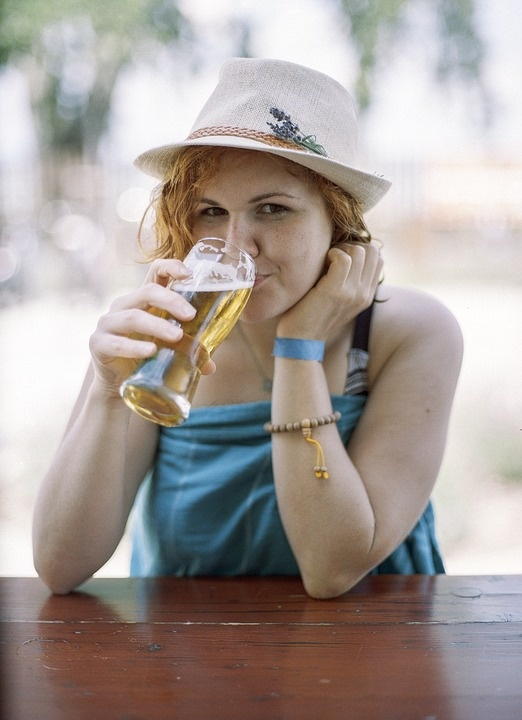glassBeer: (123, 242, 254, 425)
